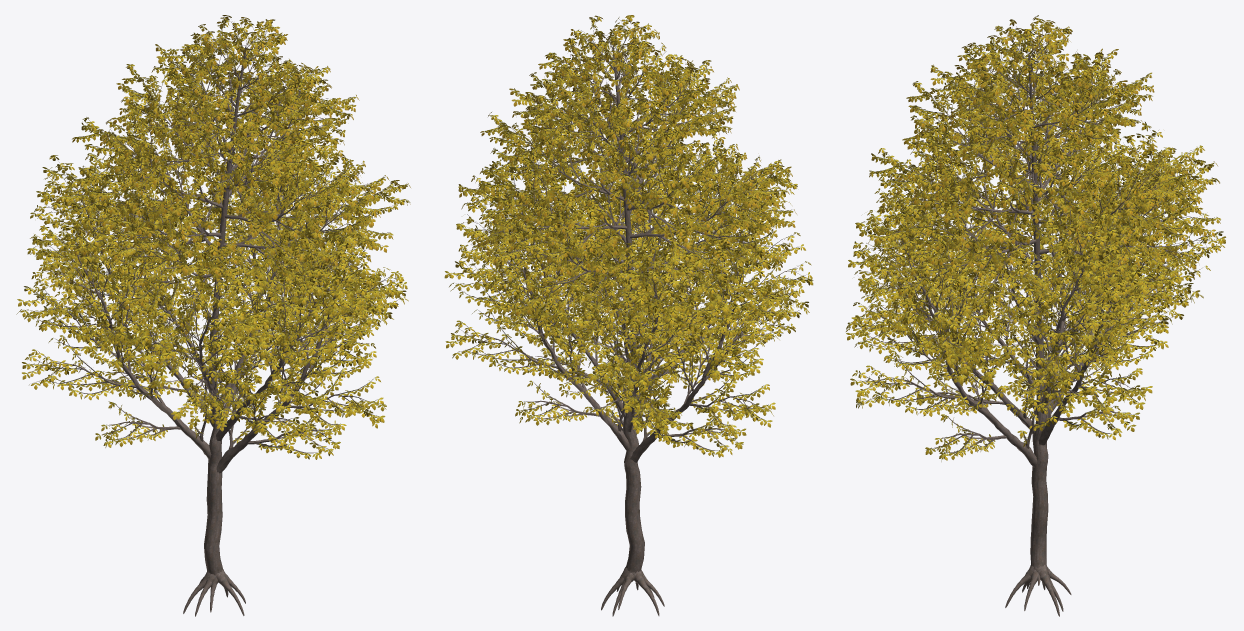
File: ja02_acer_nikoense_nikko_maple (1).glb
3 renders of one model, left to right at view 1: azimuth 30°, elevation 25°; view 2: azimuth 150°, elevation 25°; view 3: azimuth 270°, elevation 25°, orthographic. The views are drawn at different scales.
Parts seen in each view (by area): view 1: Leaf02_8, Bark01_8, Leaf03_8; view 2: Leaf02_8, Bark01_8, Leaf03_8; view 3: Leaf02_8, Bark01_8, Leaf03_8.
Part boxes in pixels (x1=…): Leaf02_8: x1=16, y1=17, x2=410, y2=459; Bark01_8: x1=23, y1=21, x2=406, y2=616; Leaf03_8: x1=55, y1=15, x2=410, y2=334; Leaf02_8: x1=444, y1=16, x2=813, y2=457; Bark01_8: x1=454, y1=19, x2=806, y2=616; Leaf03_8: x1=458, y1=15, x2=796, y2=331; Leaf02_8: x1=846, y1=18, x2=1225, y2=461; Bark01_8: x1=853, y1=18, x2=1216, y2=616; Leaf03_8: x1=869, y1=15, x2=1220, y2=320.
Size of the model in its own units: 802 by 1398 by 821.
3 materials, 3 textured.
